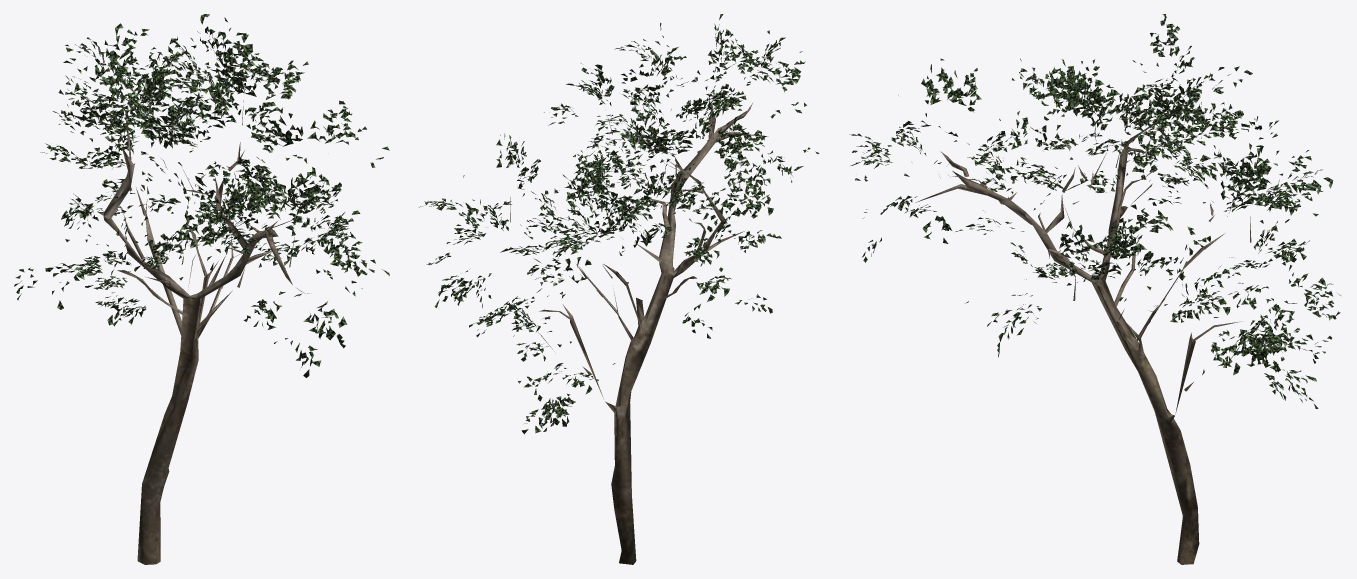
Rendered from tree_small_02_far.glb.
The picture shows the model from 3 angles, left to right: view 1: azimuth 30°, elevation 25°; view 2: azimuth 150°, elevation 25°; view 3: azimuth 270°, elevation 25°; orthographic projection. The views are drawn at different scales.
Visible parts, largest first — view 1: tree_small_02_LOD0; view 2: tree_small_02_LOD0; view 3: tree_small_02_LOD0.
Boxes of the visible parts, x1,y1,x2,y2 form: tree_small_02_LOD0: [14, 14, 389, 564]; tree_small_02_LOD0: [419, 14, 819, 564]; tree_small_02_LOD0: [849, 14, 1340, 564].
Bounding box in the file's own units: 2.86 × 4.54 × 4.
3 materials, 3 textured.
